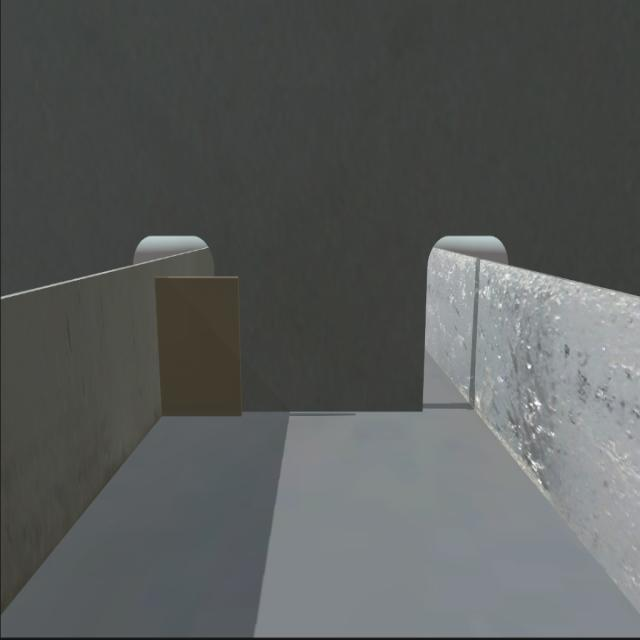fillet_yong_jeop_jang: (159, 402, 430, 420)
longi_yong_jeop_jang: (149, 274, 167, 418)
plate_CP01: (160, 277, 239, 416)
